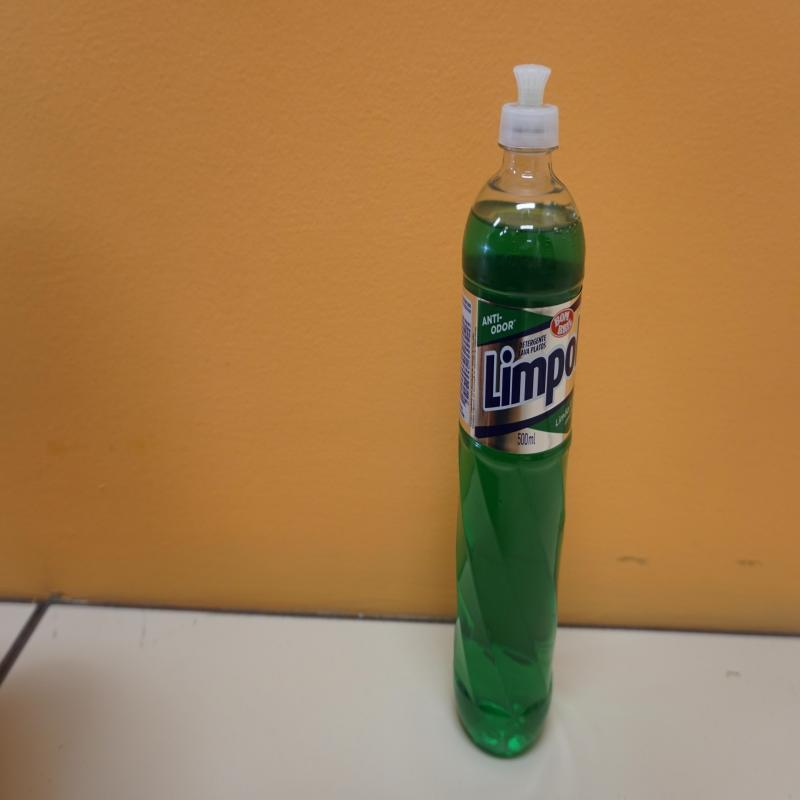Cleaner: (452, 66, 587, 764)
